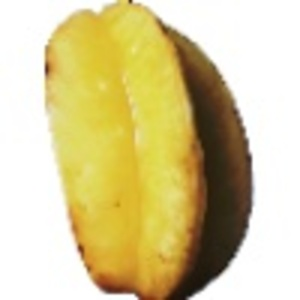carambola: (42, 1, 256, 300)
